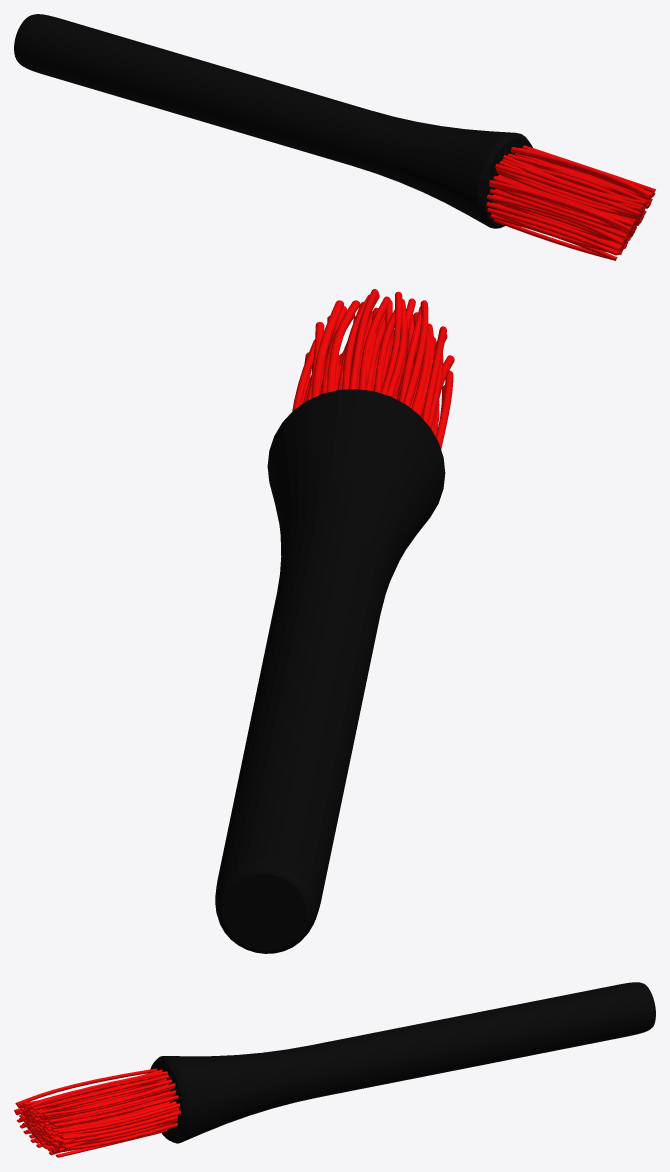
Rendered from Make-up brush 1.obj.
3 renders of one model, top to bottom at view 1: azimuth 30°, elevation 25°; view 2: azimuth 150°, elevation 25°; view 3: azimuth 270°, elevation 25°, orthographic. The views are drawn at different scales.
Visible parts, largest first — view 1: Cylinder001; view 2: Cylinder001; view 3: Cylinder001.
Boxes of the visible parts, left/top/right/bottom form: Cylinder001: left=14, top=14, right=655, bottom=260; Cylinder001: left=215, top=289, right=454, bottom=953; Cylinder001: left=14, top=982, right=655, bottom=1157.
Size of the model in its own units: 195442 by 52303 by 376458.
